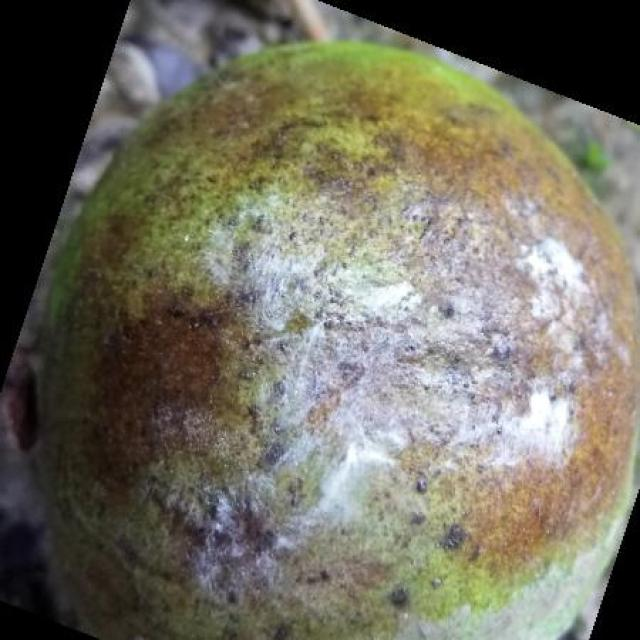Phytopthora: (15, 44, 639, 640)
